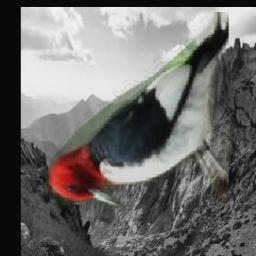Woodpecker: (47, 13, 230, 209)
